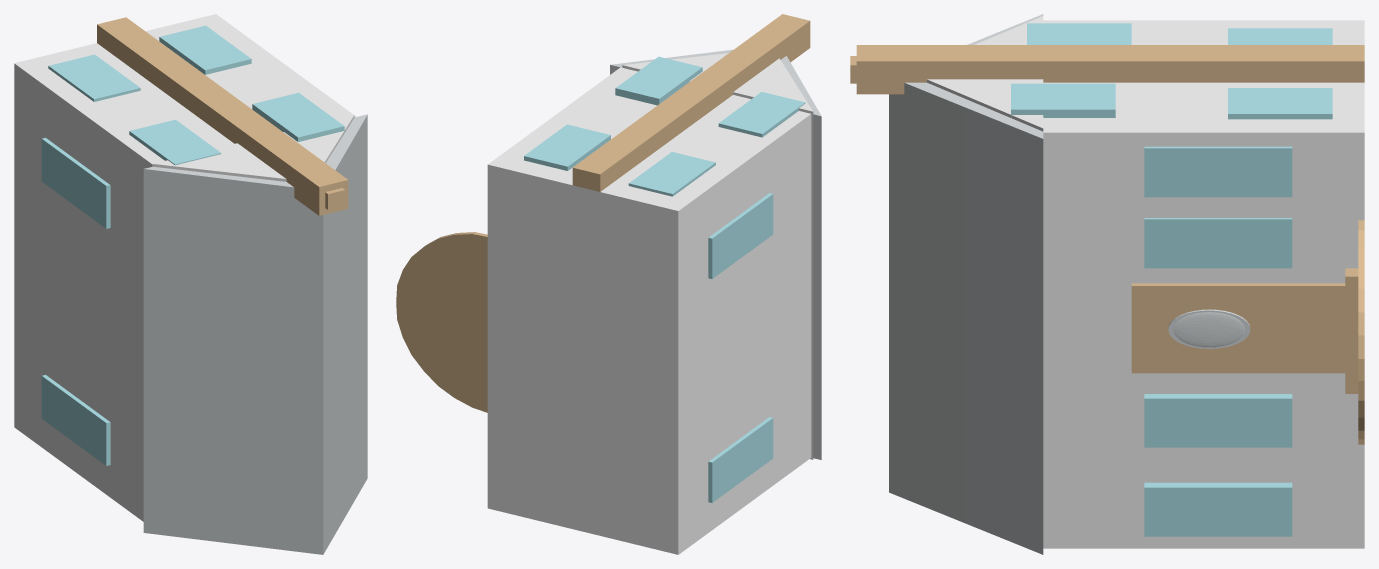
Rendered from onehouse.obj.
The picture shows the model from 3 angles, left to right: view 1: azimuth 30°, elevation 25°; view 2: azimuth 150°, elevation 25°; view 3: azimuth 270°, elevation 25°; orthographic projection. The views are drawn at different scales.
Visible parts, largest first — view 1: group_14541540, group_16448250, group_11593967, group_14860437; view 2: group_16448250, group_14860437, group_11593967, group_14541540; view 3: group_16448250, group_14541540, group_11593967, group_14860437.
Part boxes in pixels (box(x1,y1,x2,y2)): group_14541540: box(143, 114, 367, 554); group_16448250: box(14, 14, 356, 521); group_11593967: box(41, 25, 344, 465); group_14860437: box(97, 17, 348, 215); group_16448250: box(487, 53, 813, 554); group_14860437: box(396, 14, 810, 412); group_11593967: box(524, 56, 805, 502); group_14541540: box(610, 49, 821, 459); group_16448250: box(927, 16, 1364, 548); group_14541540: box(889, 14, 1250, 554); group_11593967: box(1011, 23, 1332, 536); group_14860437: box(850, 45, 1364, 444).
Size of the model in its own units: 11.69 by 13.91 by 14.7.
